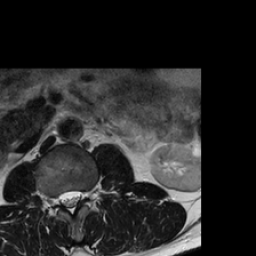CCS_normal: (66, 180, 74, 221)
LFS_stenosis: (82, 181, 90, 205)
LLS_normal: (74, 181, 82, 211)
RFS_normal: (51, 186, 58, 212)
RLS_normal: (58, 185, 66, 212)
